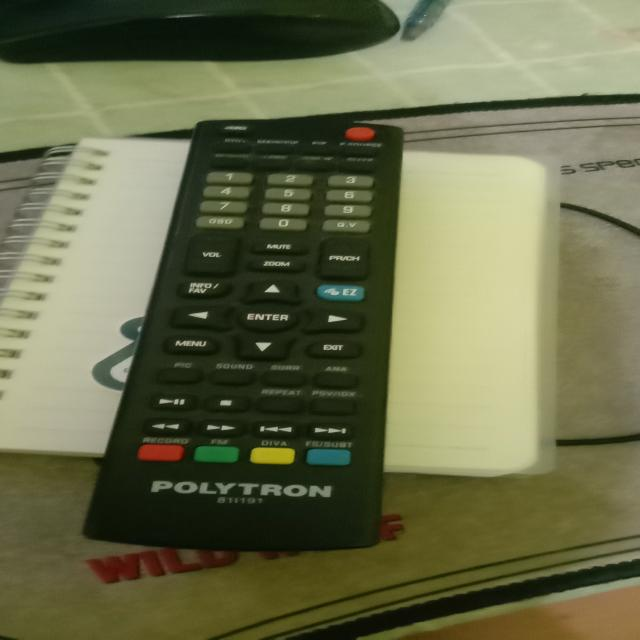remote: (56, 115, 420, 569)
